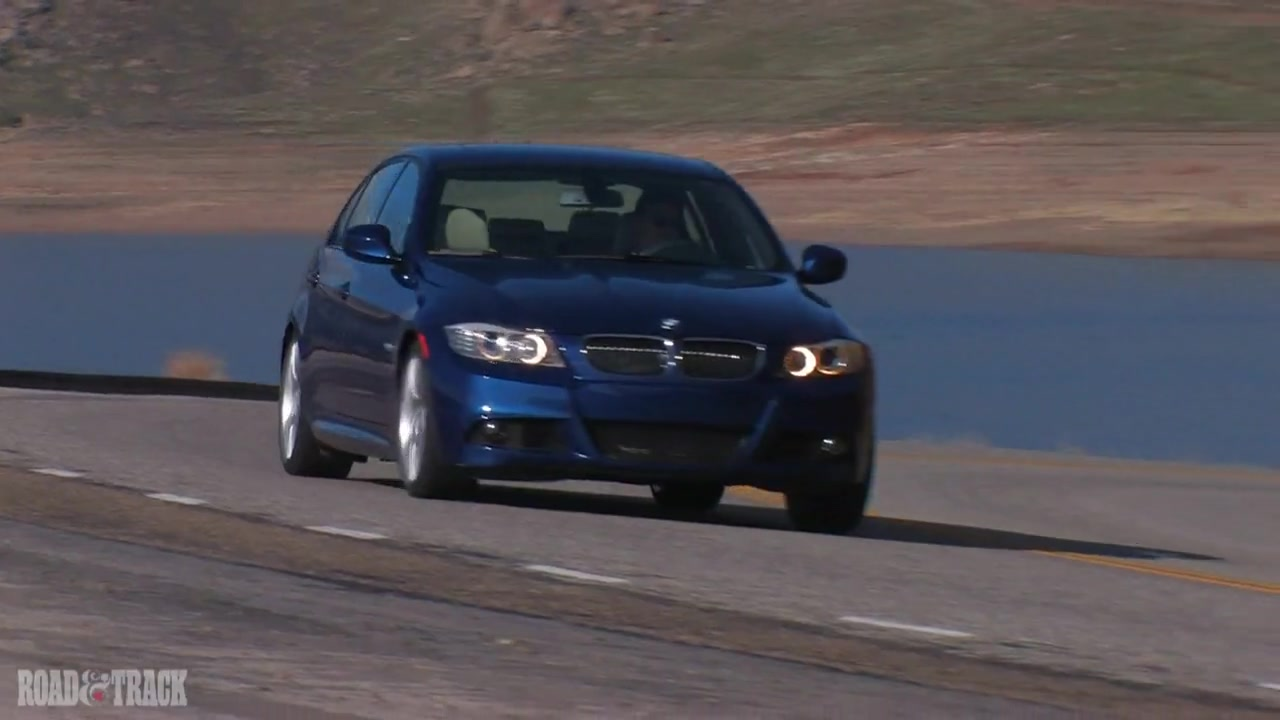car: (274, 140, 878, 535)
